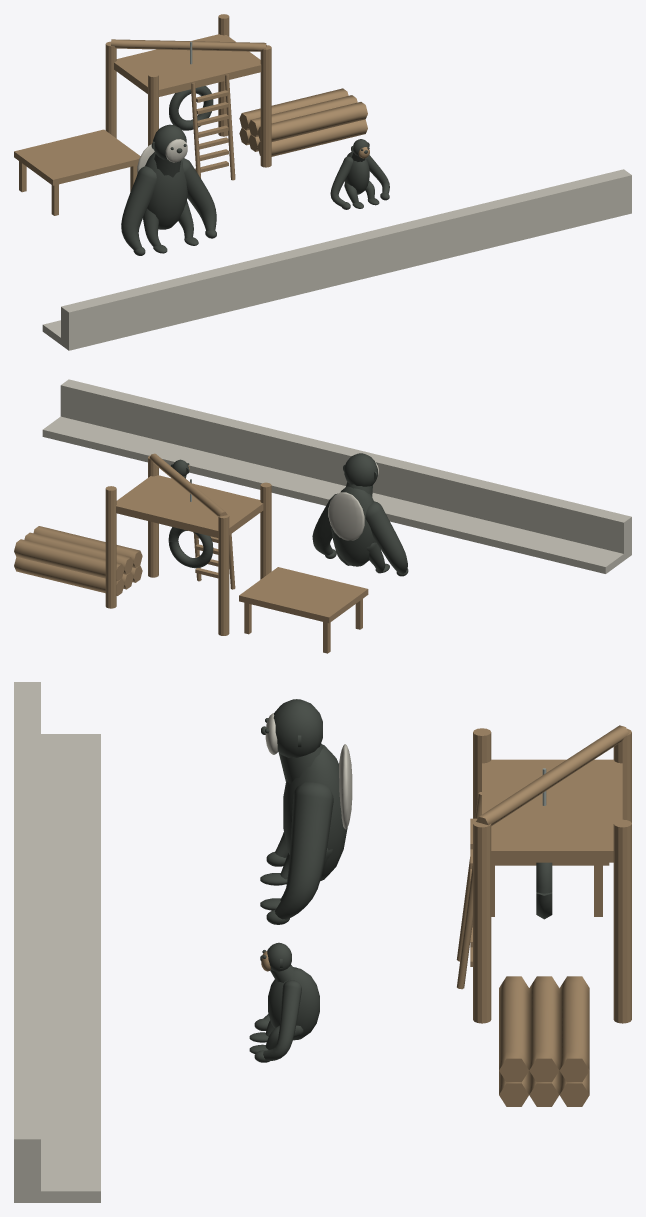
The model's file is zoo-and-safari-park-builder-primate-island-98f794b9__21525.glb.
3 renders of one model, top to bottom at view 1: azimuth 30°, elevation 25°; view 2: azimuth 150°, elevation 25°; view 3: azimuth 270°, elevation 25°, orthographic. The views are drawn at different scales.
Parts seen in each view (by area): view 1: 002-climbing-frame/0, 000-lowland-gorilla-silverback/0, 006-dry-moat-edge-straight/0, 004-log-pile/0, 007-dry-moat-edge-straight/0, 009-dry-moat-edge-straight/0, 010-dry-moat-edge-straight/0, 008-dry-moat-edge-straight/0, 005-feeding-platform/0, 001-chimpanzee/0, 003-hanging-tyre/1, 000-lowland-gorilla-silverback/1; view 2: 002-climbing-frame/0, 006-dry-moat-edge-straight/0, 007-dry-moat-edge-straight/0, 010-dry-moat-edge-straight/0, 009-dry-moat-edge-straight/0, 004-log-pile/0, 008-dry-moat-edge-straight/0, 000-lowland-gorilla-silverback/0, 005-feeding-platform/0, 000-lowland-gorilla-silverback/1, 003-hanging-tyre/1; view 3: 002-climbing-frame/0, 000-lowland-gorilla-silverback/0, 004-log-pile/0, 010-dry-moat-edge-straight/0, 006-dry-moat-edge-straight/0, 007-dry-moat-edge-straight/0, 008-dry-moat-edge-straight/0, 009-dry-moat-edge-straight/0, 001-chimpanzee/0, 000-lowland-gorilla-silverback/1, 005-feeding-platform/0, 003-hanging-tyre/1.
Part boxes in pixels (x1,y1,x2,y2): 002-climbing-frame/0: (105, 14, 271, 180); 000-lowland-gorilla-silverback/0: (121, 124, 216, 255); 006-dry-moat-edge-straight/0: (42, 279, 181, 350); 004-log-pile/0: (239, 88, 367, 156); 007-dry-moat-edge-straight/0: (173, 251, 294, 323); 009-dry-moat-edge-straight/0: (399, 197, 519, 268); 010-dry-moat-edge-straight/0: (511, 169, 631, 240); 008-dry-moat-edge-straight/0: (286, 224, 406, 295); 005-feeding-platform/0: (14, 129, 140, 215); 001-chimpanzee/0: (330, 139, 389, 209); 003-hanging-tyre/1: (169, 86, 213, 130); 000-lowland-gorilla-silverback/1: (137, 139, 187, 173); 002-climbing-frame/0: (105, 453, 271, 635); 006-dry-moat-edge-straight/0: (493, 489, 631, 573); 007-dry-moat-edge-straight/0: (384, 462, 518, 546); 010-dry-moat-edge-straight/0: (42, 379, 180, 462); 009-dry-moat-edge-straight/0: (158, 407, 293, 489); 004-log-pile/0: (14, 526, 142, 595); 008-dry-moat-edge-straight/0: (270, 434, 406, 509); 000-lowland-gorilla-silverback/0: (312, 453, 408, 576); 005-feeding-platform/0: (239, 567, 368, 653); 000-lowland-gorilla-silverback/1: (328, 461, 378, 540); 003-hanging-tyre/1: (168, 527, 213, 568); 002-climbing-frame/0: (456, 725, 631, 1023); 000-lowland-gorilla-silverback/0: (260, 699, 347, 924); 004-log-pile/0: (499, 976, 589, 1106); 010-dry-moat-edge-straight/0: (14, 1047, 100, 1202); 006-dry-moat-edge-straight/0: (14, 682, 100, 825); 007-dry-moat-edge-straight/0: (14, 773, 100, 916); 008-dry-moat-edge-straight/0: (14, 865, 100, 1008); 009-dry-moat-edge-straight/0: (14, 956, 100, 1099); 001-chimpanzee/0: (249, 942, 319, 1062); 000-lowland-gorilla-silverback/1: (265, 713, 352, 829); 005-feeding-platform/0: (491, 862, 609, 916); 003-hanging-tyre/1: (536, 862, 552, 919).
Size of the model in its own units: 10 by 2.1 by 5.71.
